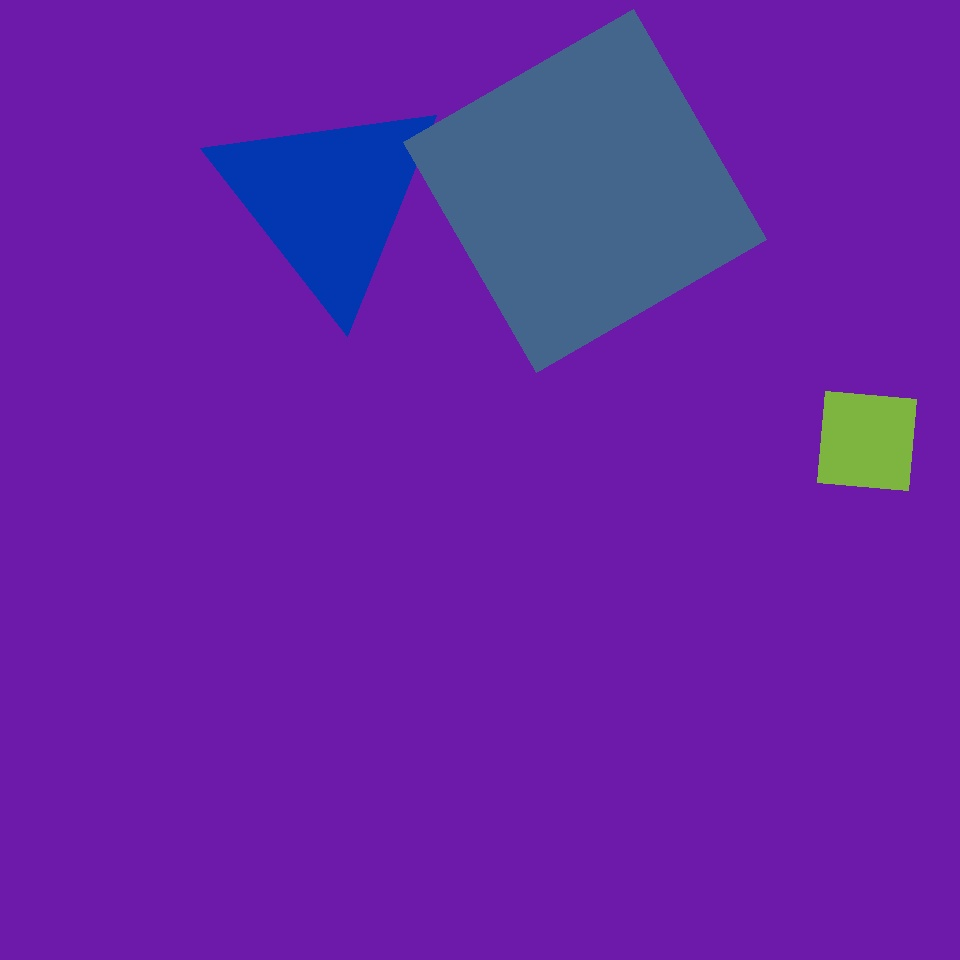circle: (210, 90, 446, 310)
square: (404, 9, 766, 372), (818, 391, 916, 490)
